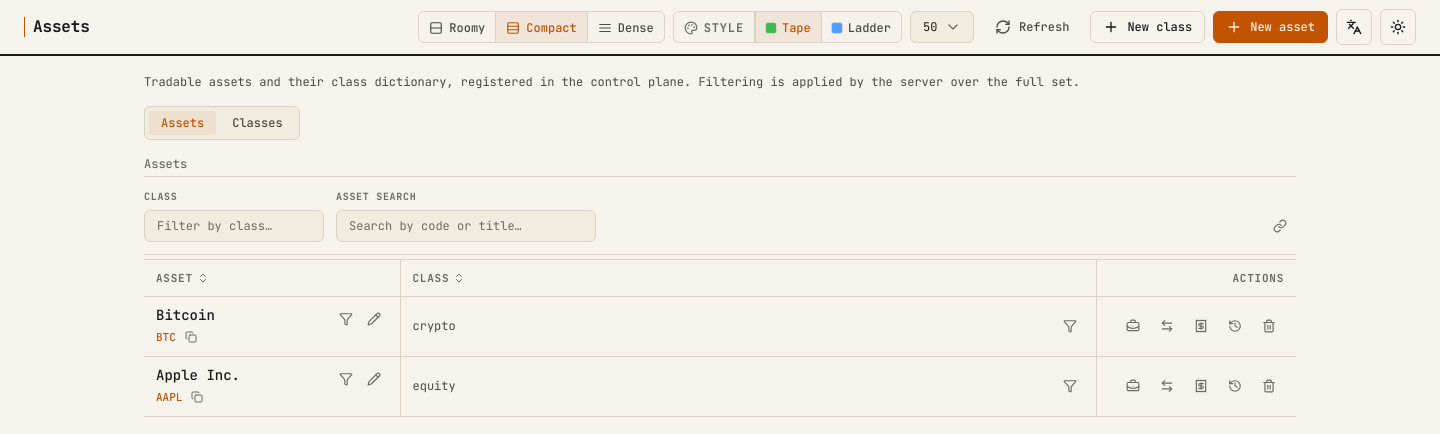
Test: Assets classes tab › filters assets to a class via the class filter action
The width and height of the screenshot is (1440, 434).
Click the button "Classes": (257,123) [220, 111, 295, 135]
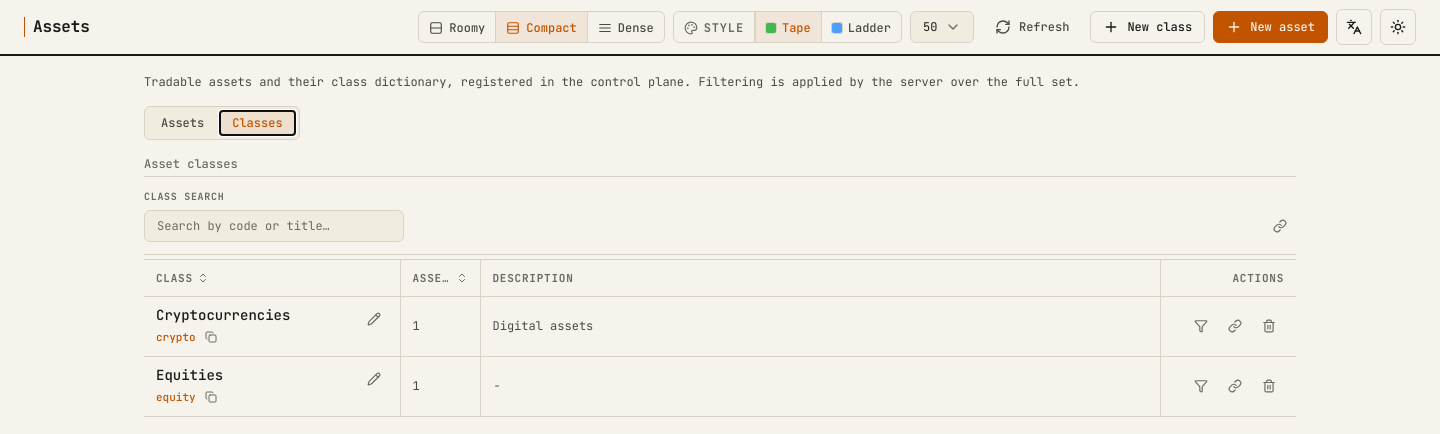
Check: the text "Cryptocurrencies" is shown, box [156, 306, 290, 324]
Click the button named "filter by crypto": (1201,326) [1186, 311, 1216, 341]
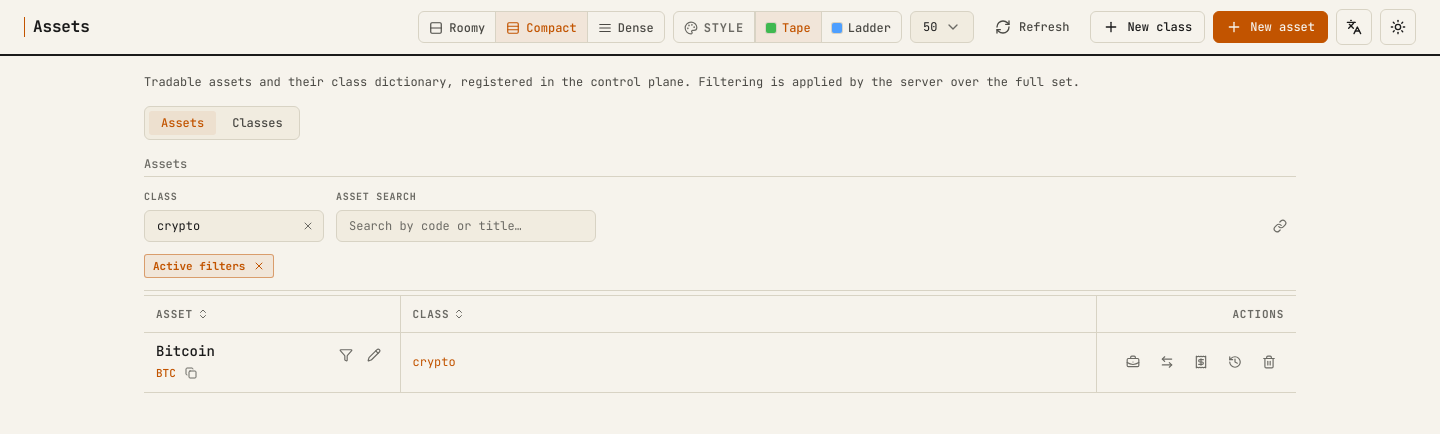
Check: the text "Apple Inc." is not shown
Check: the text "Bitcoin" is shown, box [156, 340, 215, 362]
